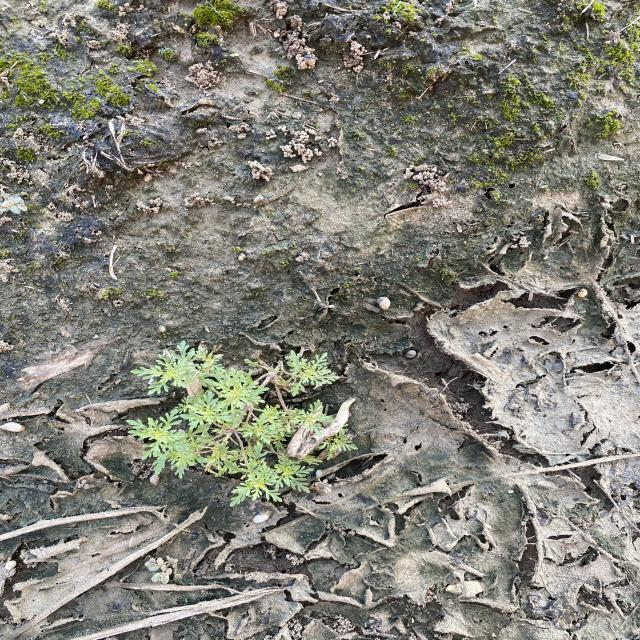Ragweed: (124, 339, 359, 508)
